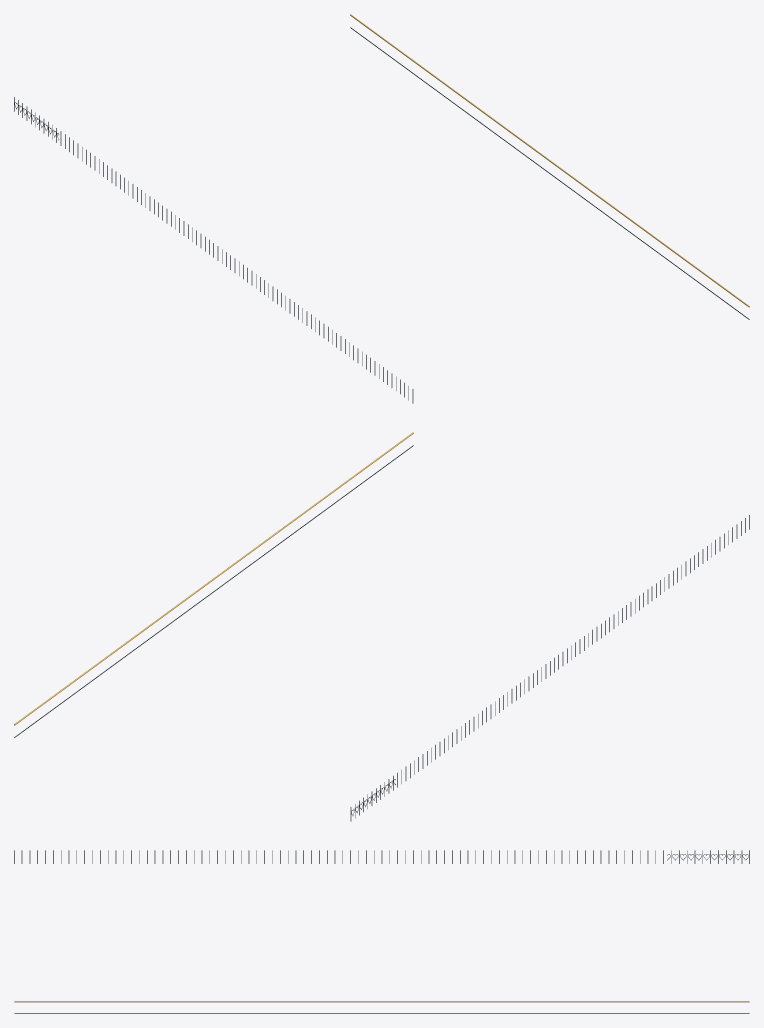
The model's file is KRM_STATIC_033.fbx.
The picture shows the model from 3 angles, top to bottom: view 1: azimuth 30°, elevation 25°; view 2: azimuth 150°, elevation 25°; view 3: azimuth 270°, elevation 25°; orthographic projection. The views are drawn at different scales.
Visible parts, largest first — view 1: KRM_STATIC_033; view 2: KRM_STATIC_033; view 3: KRM_STATIC_033.
Part boxes in pixels (x1,y1,x2,y2): KRM_STATIC_033: (14, 14, 749, 403); KRM_STATIC_033: (14, 432, 749, 821); KRM_STATIC_033: (14, 850, 749, 1013).
Bounding box in the file's own units: 2283 × 99.5 × 4679.
1 material, 1 textured.
